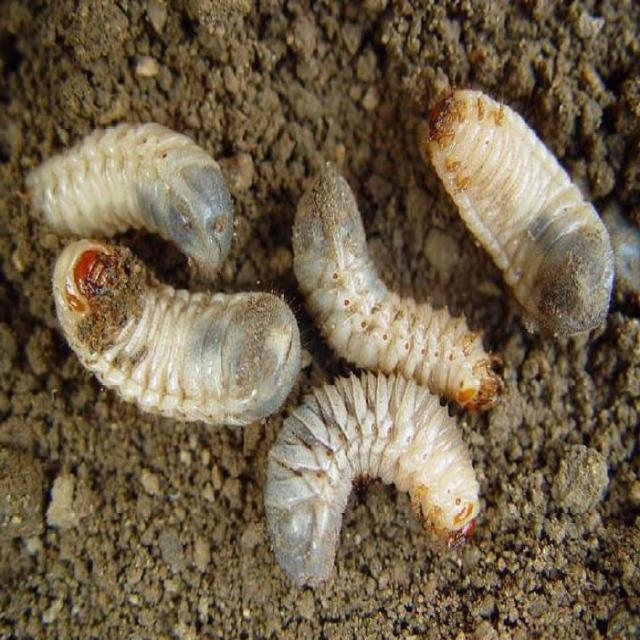grub: (283, 168, 510, 408), (37, 242, 303, 435), (251, 374, 481, 589), (419, 93, 620, 337), (20, 121, 250, 278)
